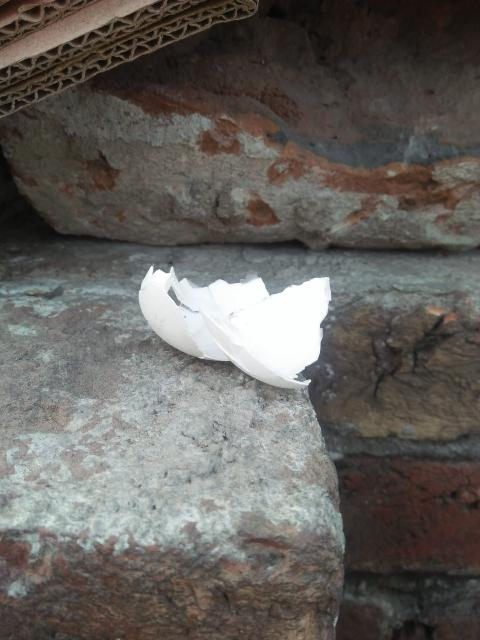Roto: (137, 264, 332, 390)
